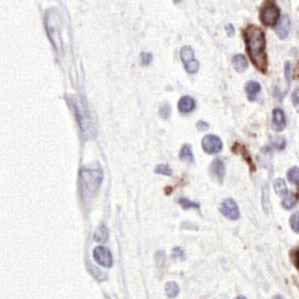Lymphocyte: (259, 4, 282, 28)
